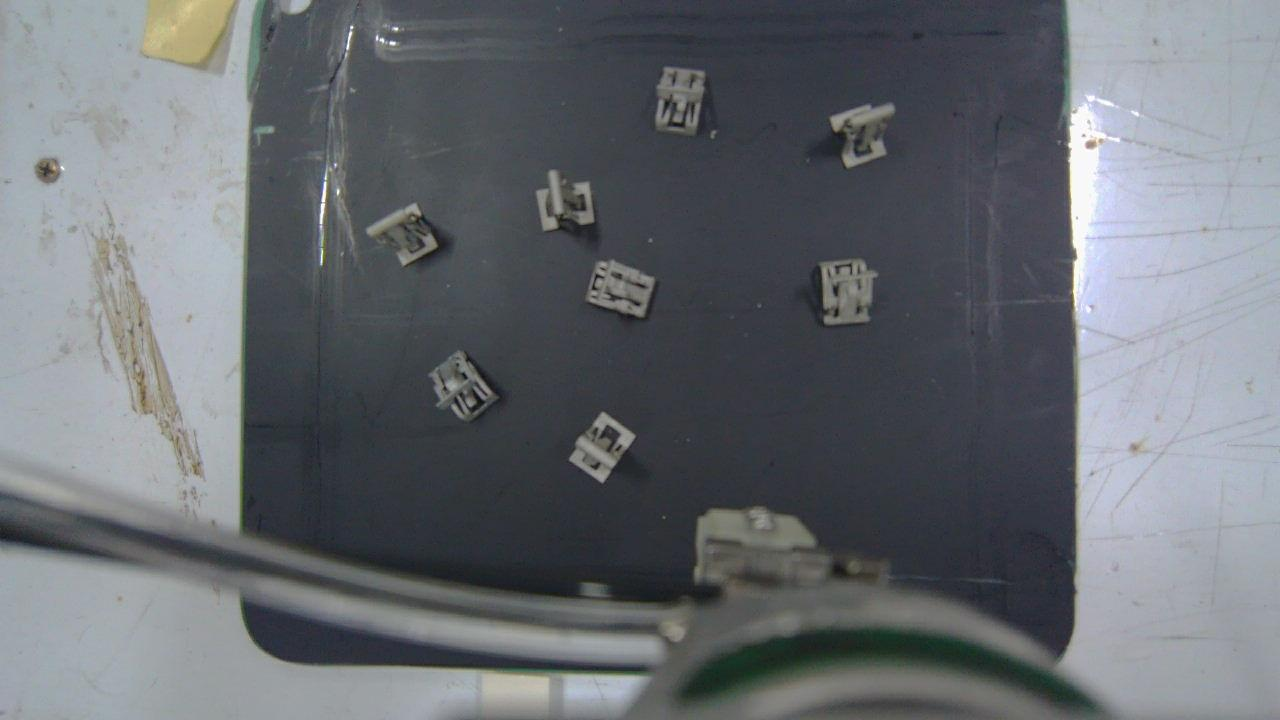ng: (428, 350, 500, 423), (367, 199, 438, 267), (584, 258, 657, 317), (831, 102, 893, 169), (820, 260, 877, 326), (656, 66, 706, 138)
pass: (571, 413, 637, 483), (537, 169, 595, 234)
